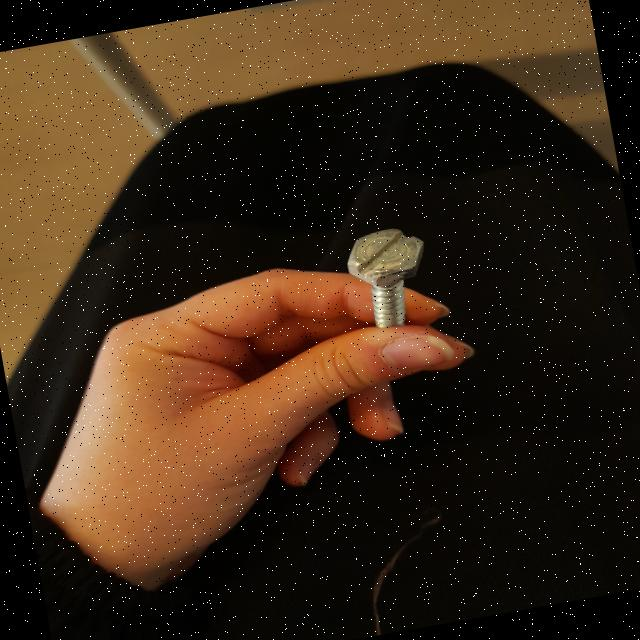Slotted: (342, 221, 431, 288)
